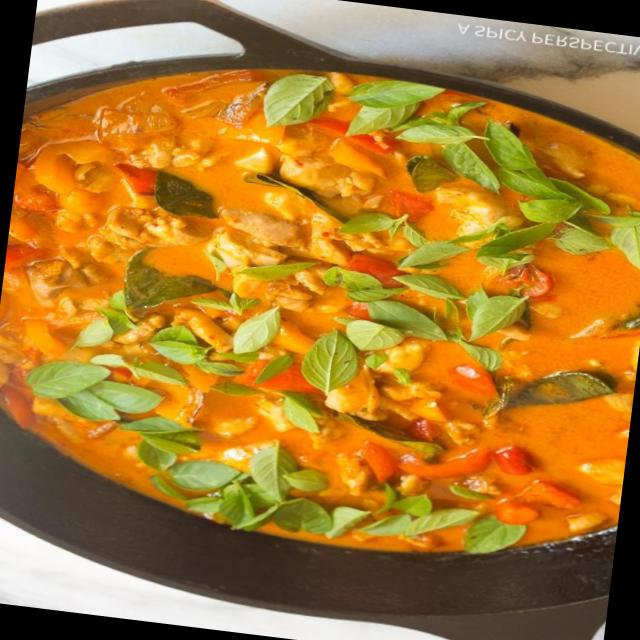chicken: (37, 45, 630, 544)
